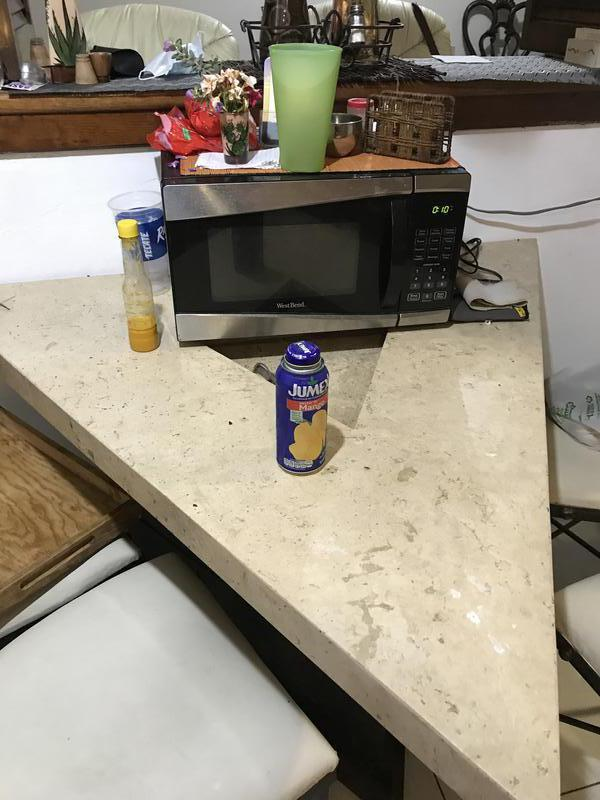jugo_jumex: (274, 339, 332, 475)
